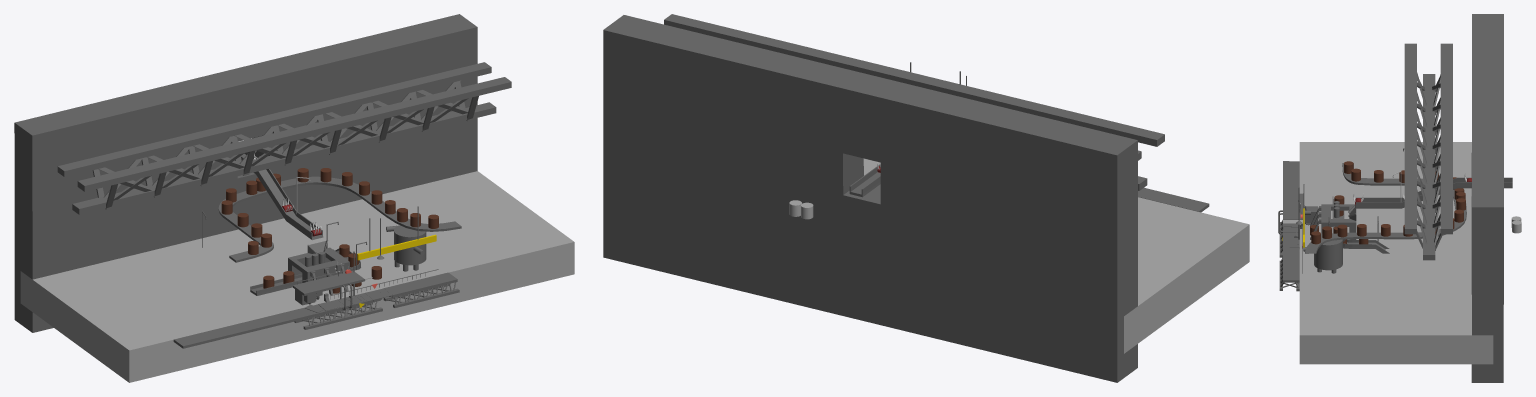
Rendered from OddworldScene.fbx.
3 renders of one model, left to right at view 1: azimuth 30°, elevation 25°; view 2: azimuth 150°, elevation 25°; view 3: azimuth 270°, elevation 25°, orthographic. The views are drawn at different scales.
Visible parts, largest first — view 1: pCube88, pCube5, polySurface155, pCube1, polySurface94, pCube7, polySurface32, pCylinder110, pCube3, pCube6, pCube22, pCube31; view 2: pCube88, pCube5, polySurface155, pCube1, polySurface32; view 3: pCube5, pCube88, polySurface155, polySurface94, polySurface32, pCube1, pCylinder110, pCube7, pCube6, pCube3, pCube31.
Boxes of the visible parts, left/top/right/bottom form: pCube88: left=14, top=14, right=477, bottom=332; pCube5: left=20, top=171, right=574, bottom=382; polySurface155: left=57, top=62, right=511, bottom=214; pCube1: left=173, top=291, right=380, bottom=348; polySurface94: left=218, top=176, right=461, bottom=262; pCube7: left=288, top=240, right=349, bottom=282; polySurface32: left=241, top=152, right=323, bottom=239; pCylinder110: left=394, top=225, right=426, bottom=265; pCube3: left=293, top=271, right=364, bottom=295; pCube6: left=384, top=272, right=457, bottom=297; pCube22: left=357, top=234, right=436, bottom=260; pCube31: left=250, top=248, right=360, bottom=295; pCube88: left=603, top=15, right=1137, bottom=382; pCube5: left=863, top=158, right=1249, bottom=353; polySurface155: left=664, top=14, right=1164, bottom=190; pCube1: left=1138, top=187, right=1209, bottom=212; polySurface32: left=849, top=164, right=880, bottom=197; pCube5: left=1299, top=142, right=1493, bottom=364; pCube88: left=1471, top=14, right=1503, bottom=382; polySurface155: left=1404, top=43, right=1452, bottom=260; polySurface94: left=1305, top=163, right=1466, bottom=253; polySurface32: left=1355, top=177, right=1512, bottom=208; pCube1: left=1283, top=161, right=1299, bottom=248; pCylinder110: left=1314, top=233, right=1342, bottom=270; pCube7: left=1321, top=204, right=1356, bottom=239; pCube6: left=1283, top=252, right=1299, bottom=282; pCube3: left=1283, top=193, right=1302, bottom=219; pCube31: left=1332, top=196, right=1389, bottom=253.
Size of the model in its own units: 138 by 58.27 by 73.21.
